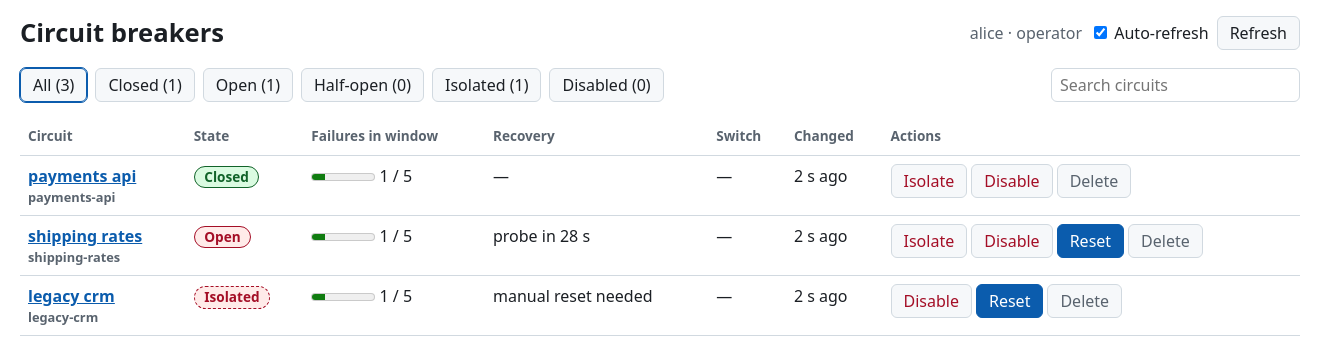
Scenario: the circuit console › filters by state and by text
The image size is (1321, 353).
Check: the button "payments api" is shown, box top-left (28, 164), bottom-right (136, 188)
Click the button "Isolated (1)" at (487, 85), box top-left (432, 68), bottom-right (542, 102)
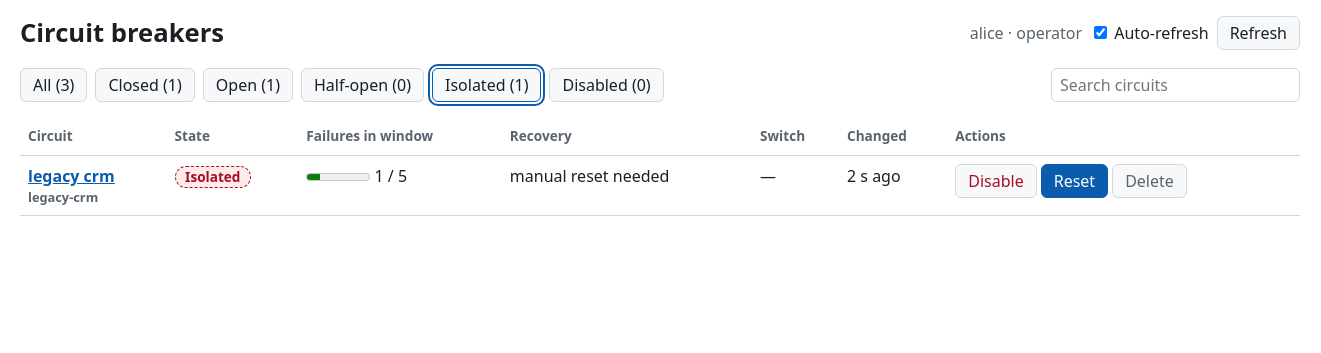
Check: the button "legacy crm" is shown, box top-left (28, 164), bottom-right (115, 188)
Check: the button "payments api" is gone
Click the button "All (3)" at (54, 85), box top-left (20, 68), bottom-right (87, 102)
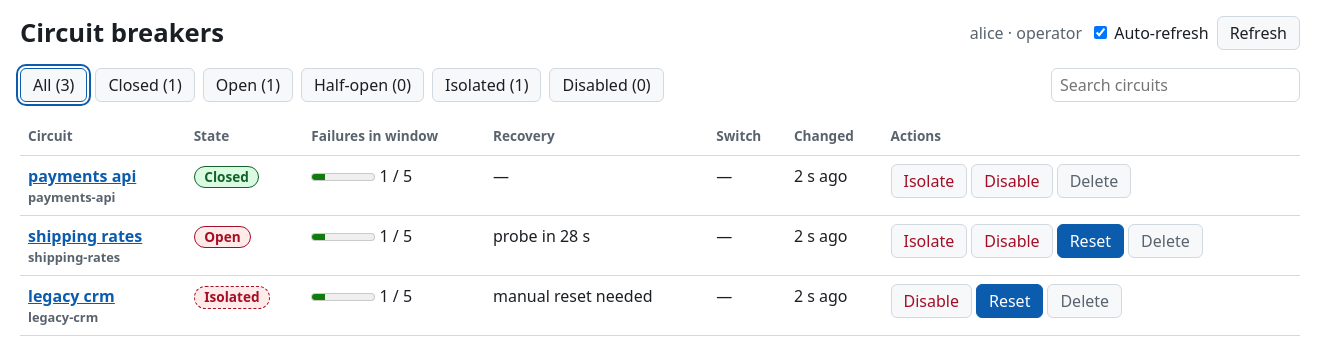
Type "shipping" into the search field labelled "Search circuits" at (1176, 85), box top-left (1051, 68), bottom-right (1300, 102)
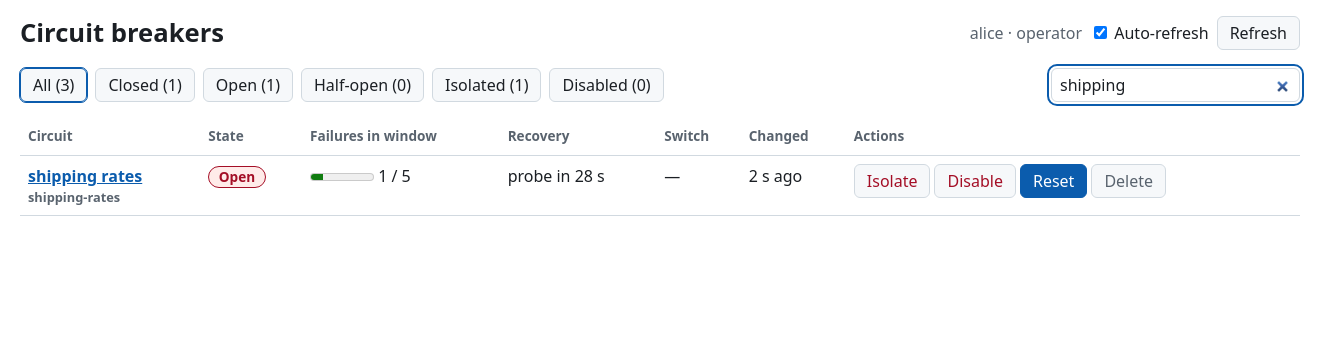
Check: the button "shipping rates" is shown, box top-left (28, 164), bottom-right (142, 188)
Check: the button "legacy crm" is gone
